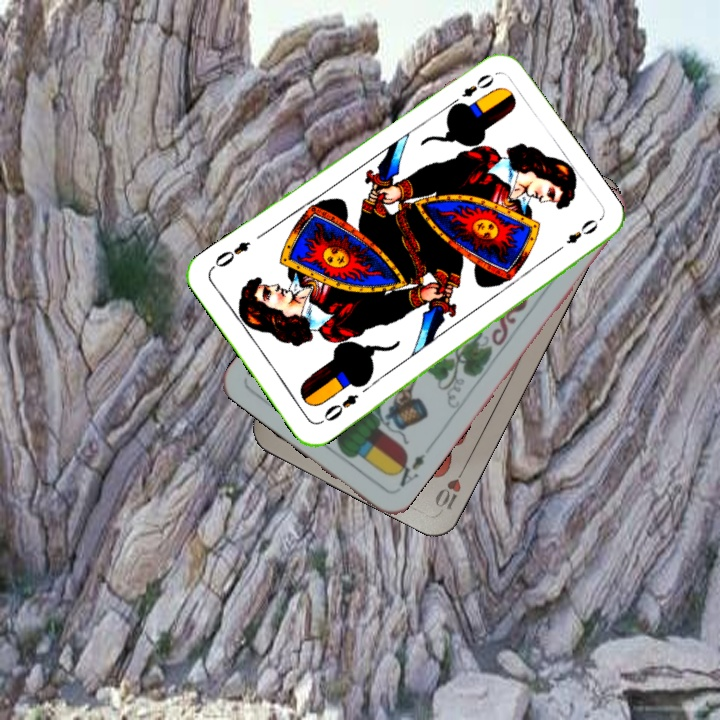EA: (388, 449, 428, 490)
EO: (446, 70, 497, 110), (316, 390, 361, 427)
H10: (430, 459, 470, 513)
